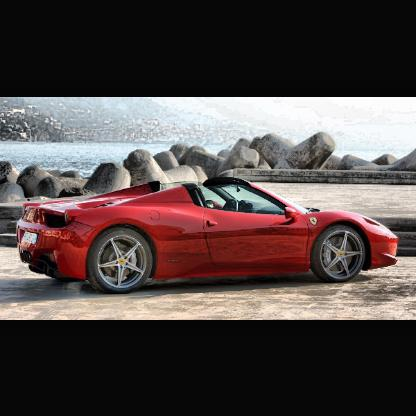Ferrari 458 Italia Convertible 2012: (18, 177, 404, 300)
